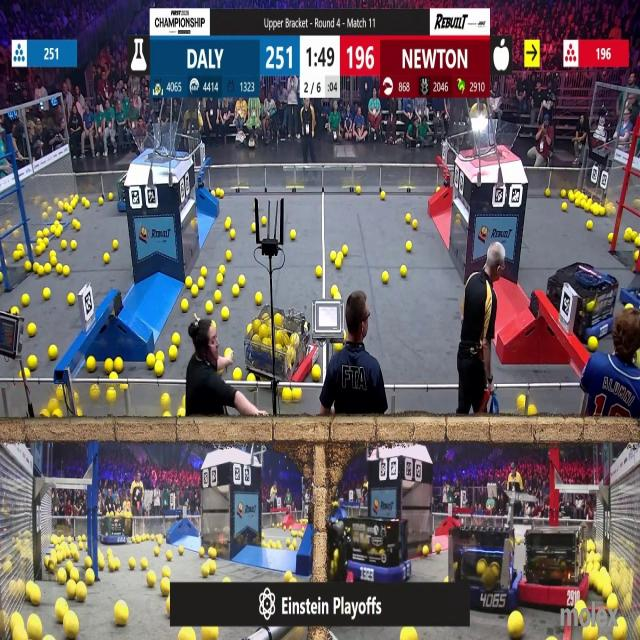ball_ground: (114, 600, 127, 625), (56, 599, 68, 623), (31, 587, 41, 606), (76, 584, 86, 602), (312, 364, 322, 380), (147, 570, 156, 587), (88, 356, 97, 372), (87, 569, 96, 584), (48, 345, 57, 360), (589, 337, 598, 352), (58, 568, 67, 582), (170, 346, 178, 361), (29, 355, 37, 370), (114, 357, 122, 372), (154, 362, 163, 375), (292, 388, 300, 402), (163, 392, 171, 406), (202, 564, 210, 577), (28, 323, 36, 336), (70, 568, 78, 581), (147, 354, 154, 368), (528, 406, 536, 418), (255, 291, 262, 304), (86, 556, 94, 567), (214, 290, 222, 301), (209, 548, 217, 559), (221, 308, 228, 320), (23, 293, 30, 305), (206, 302, 213, 314), (141, 558, 148, 570), (235, 367, 242, 379), (173, 334, 180, 346), (224, 216, 230, 229), (190, 285, 197, 296), (184, 277, 191, 288), (316, 267, 323, 278), (234, 284, 240, 296), (163, 567, 171, 576), (177, 409, 185, 418), (400, 266, 406, 278), (210, 562, 216, 574), (50, 252, 56, 264), (239, 276, 246, 286), (406, 241, 413, 251), (63, 267, 70, 277), (216, 274, 223, 284), (592, 205, 599, 215), (98, 558, 105, 568), (104, 252, 110, 263), (199, 278, 205, 289), (181, 301, 187, 312), (342, 245, 348, 256), (382, 273, 388, 284), (68, 293, 74, 304), (44, 288, 50, 299), (130, 558, 136, 569), (247, 375, 255, 383), (44, 266, 51, 275), (588, 220, 594, 230), (112, 240, 118, 250), (167, 552, 173, 562), (230, 230, 236, 240), (26, 263, 32, 273), (225, 250, 231, 260), (200, 548, 206, 558), (202, 268, 208, 278), (57, 266, 63, 275), (435, 543, 441, 552), (290, 231, 295, 241), (219, 266, 224, 276), (568, 190, 573, 200), (561, 188, 567, 196), (562, 204, 568, 212), (71, 241, 76, 250), (337, 261, 342, 270), (223, 576, 229, 583), (11, 308, 18, 314), (544, 187, 549, 195), (445, 575, 450, 583), (381, 191, 386, 199), (608, 234, 612, 243), (165, 412, 171, 418), (99, 199, 104, 206), (218, 189, 223, 196), (252, 223, 256, 231), (330, 252, 334, 260), (212, 320, 216, 327)
goal: (464, 122, 520, 160), (133, 132, 189, 158)
robot_blue: (445, 516, 523, 617), (547, 262, 616, 340), (340, 520, 409, 586), (102, 514, 134, 546)
robot_red: (245, 306, 318, 382), (525, 522, 589, 602)
